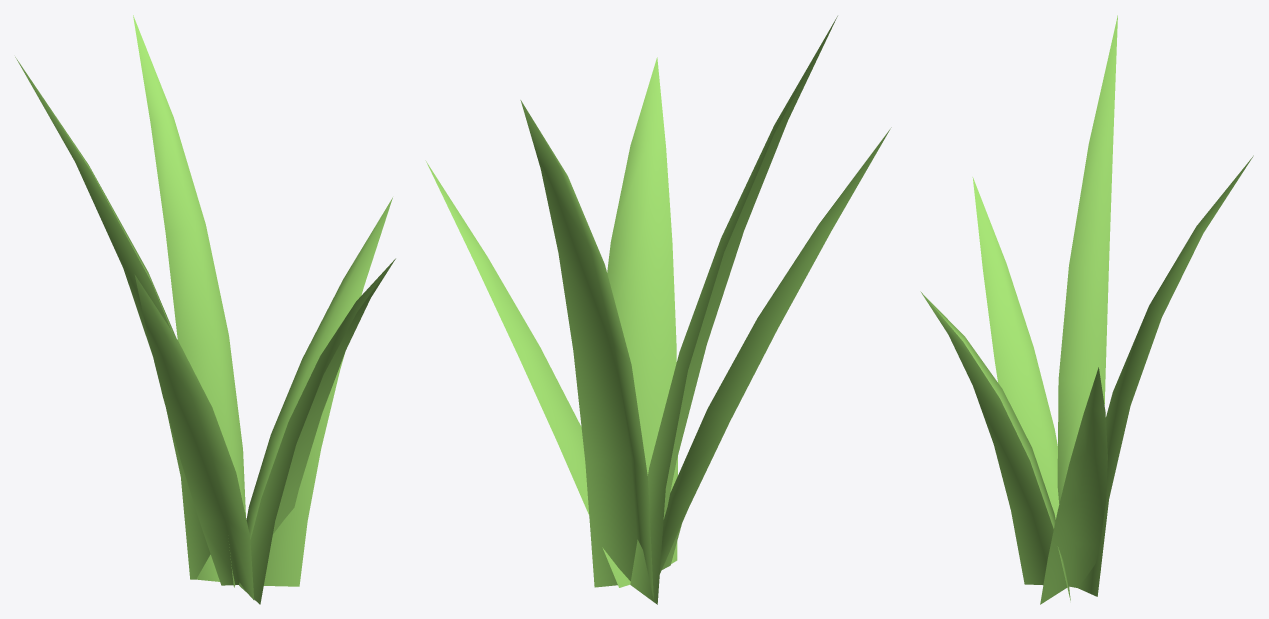
The model's file is Plants05.FBX.
The picture shows the model from 3 angles, left to right: view 1: azimuth 30°, elevation 25°; view 2: azimuth 150°, elevation 25°; view 3: azimuth 270°, elevation 25°; orthographic projection. The views are drawn at different scales.
Visible parts, largest first — view 1: Plants05; view 2: Plants05; view 3: Plants05.
Part boxes in pixels (x1,y1,x2,y2): Plants05: [15, 15, 395, 604]; Plants05: [425, 16, 891, 604]; Plants05: [920, 15, 1253, 604].
Bounding box in the file's own units: 38.15 × 55.27 × 34.32.
